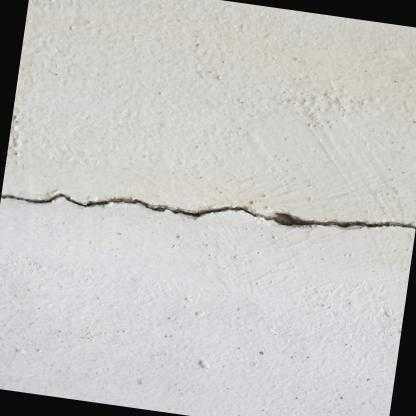crack: (0, 192, 416, 229)
